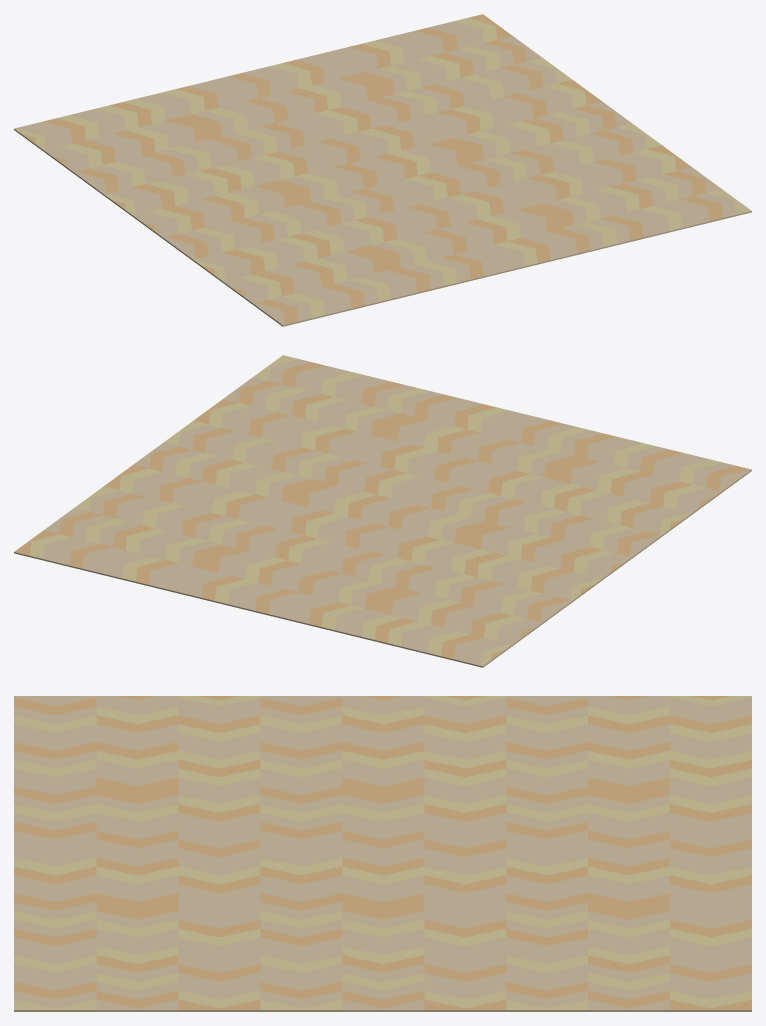
The model's file is Yogaroom_floor.fbx.
3 views of the same model, one above another, from view 1: azimuth 30°, elevation 25°; view 2: azimuth 150°, elevation 25°; view 3: azimuth 270°, elevation 25° (orthographic). The views are drawn at different scales.
Visible parts, largest first — view 1: Yogaroom_floor; view 2: Yogaroom_floor; view 3: Yogaroom_floor.
Boxes of the visible parts, bbox=[...] form: Yogaroom_floor: bbox=[14, 14, 751, 326]; Yogaroom_floor: bbox=[14, 355, 751, 667]; Yogaroom_floor: bbox=[14, 696, 751, 1011].
Bounding box in the file's own units: 492 × 489 × 1.42.
